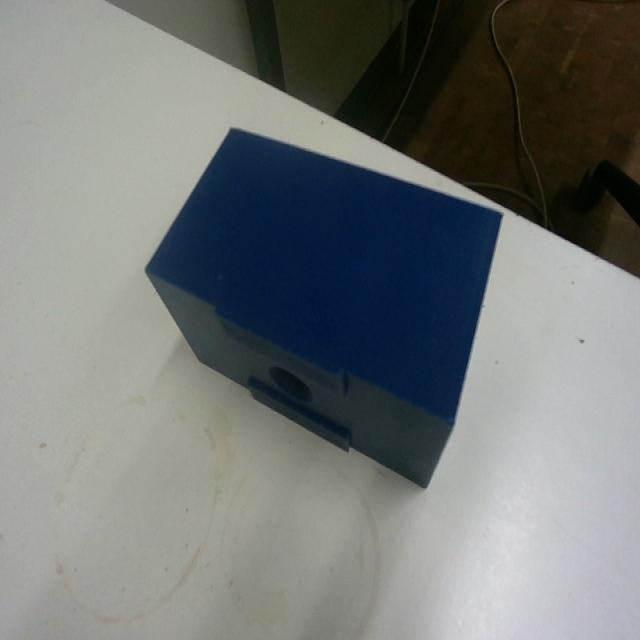Blue Cuboid: (143, 123, 504, 489)
